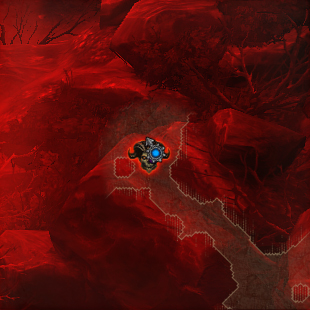Guardian: (128, 139, 171, 174)
